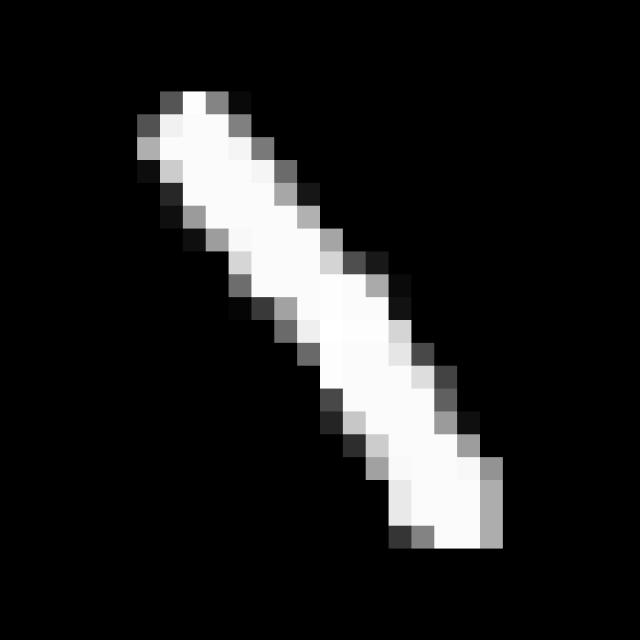one -1-: (112, 73, 526, 576)
